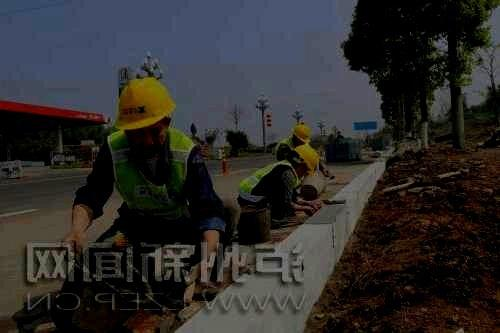helmet: (114, 76, 177, 156), (289, 143, 320, 180), (291, 124, 311, 147)
